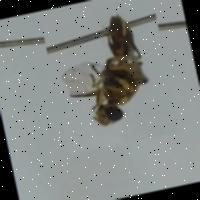Oriental-fruit-fly: (40, 0, 181, 155)
